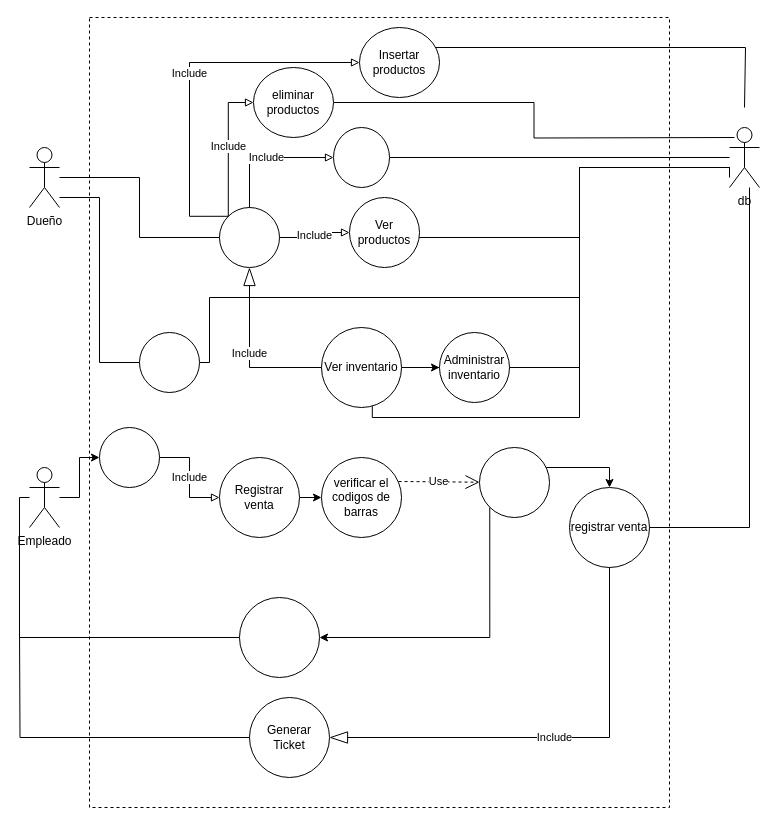
This 777x825 diagram has some shape labels left out. Each missing label, with the box of its shape:
devolver cambio: (238, 596, 320, 678)
ingresar pago: (478, 446, 550, 518)
Login Admin: (218, 206, 280, 268)
Login Empleado: (98, 426, 160, 488)
modificar productos: (332, 126, 390, 188)
Registrar Usuario: (138, 332, 200, 392)
